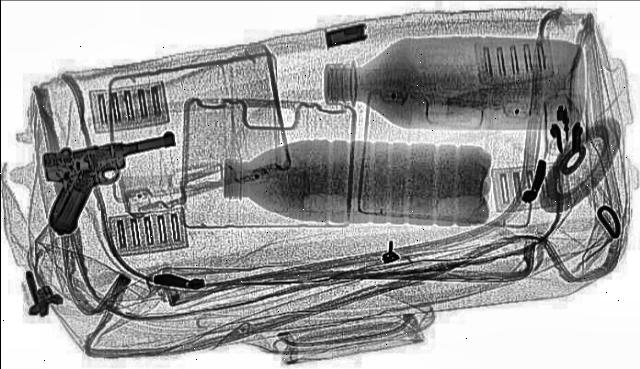Gun: (14, 119, 178, 241)
